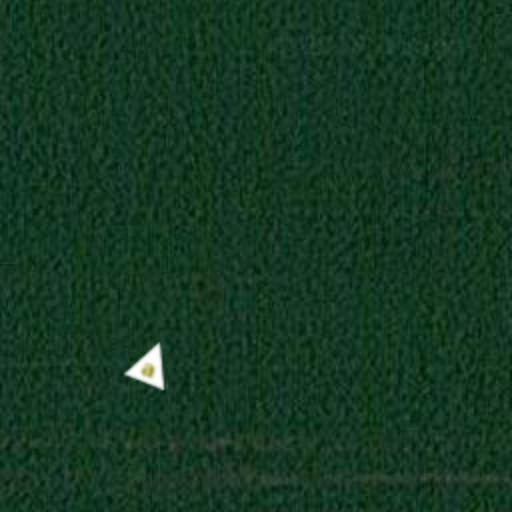triangle: (124, 334, 180, 390)
